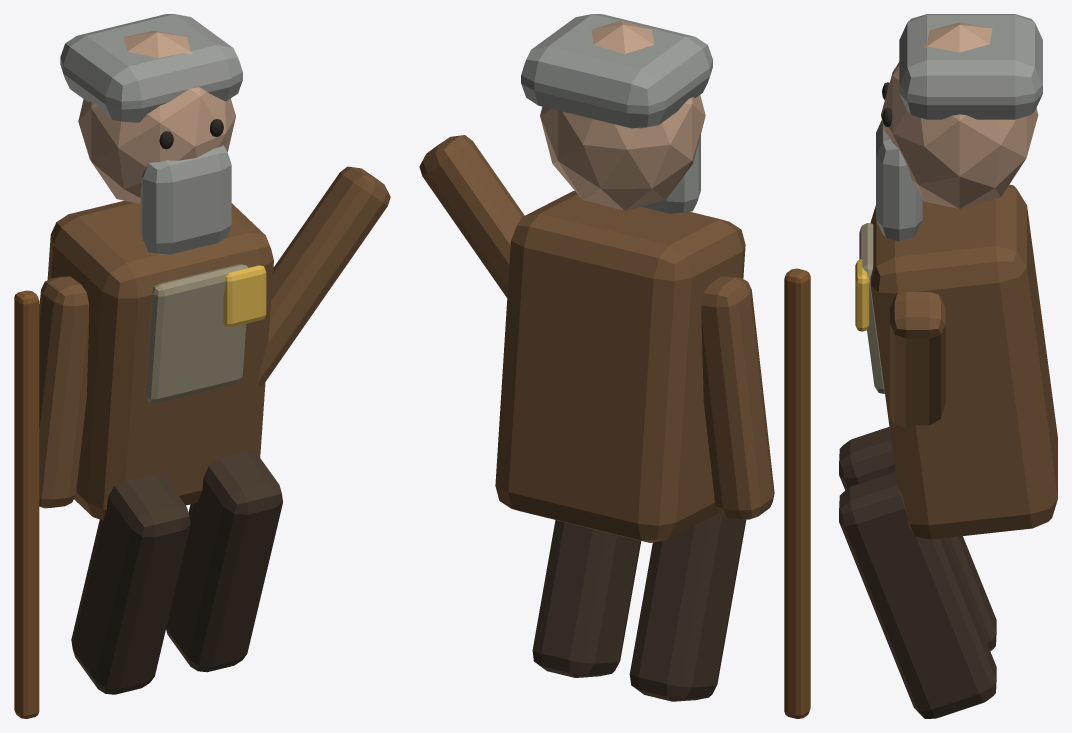
Rendered from old_man_3993.glb.
The picture shows the model from 3 angles, left to right: view 1: azimuth 30°, elevation 25°; view 2: azimuth 150°, elevation 25°; view 3: azimuth 270°, elevation 25°; orthographic projection. The views are drawn at different scales.
Parts seen in each view (by area): view 1: Slumped coat, Bent boot and leg, Bent boot and leg.001, Hair cap, Walking stick, Pointing arm, Head, Torn shirt, Drooping arm, Scraggly beard, Imperial badge; view 2: Slumped coat, Bent boot and leg, Hair cap, Drooping arm, Head, Bent boot and leg.001, Walking stick, Pointing arm, Scraggly beard; view 3: Slumped coat, Bent boot and leg.001, Hair cap, Head, Pointing arm, Bent boot and leg, Scraggly beard, Torn shirt, Imperial badge.
Part boxes in pixels (x1,y1,x2,y2): Slumped coat: [47, 200, 273, 520]; Bent boot and leg: [71, 474, 190, 694]; Bent boot and leg.001: [166, 452, 282, 672]; Hair cap: [60, 14, 242, 122]; Walking stick: [14, 290, 39, 718]; Pointing arm: [256, 166, 390, 386]; Head: [78, 30, 235, 203]; Torn shirt: [145, 264, 247, 403]; Drooping arm: [39, 276, 88, 508]; Scraggly beard: [140, 145, 231, 254]; Imperial badge: [222, 265, 266, 327]; Slumped coat: [495, 190, 745, 542]; Bent boot and leg: [629, 513, 746, 701]; Hair cap: [521, 14, 712, 128]; Drooping arm: [701, 276, 774, 519]; Head: [540, 20, 705, 210]; Bent boot and leg.001: [532, 520, 641, 677]; Walking stick: [784, 268, 810, 718]; Pointing arm: [419, 135, 524, 297]; Scraggly beard: [641, 134, 700, 213]; Slumped coat: [870, 184, 1057, 539]; Bent boot and leg.001: [839, 472, 996, 718]; Hair cap: [899, 14, 1042, 119]; Head: [881, 22, 1038, 208]; Pointing arm: [890, 292, 945, 427]; Bent boot and leg: [839, 427, 996, 650]; Scraggly beard: [876, 120, 922, 241]; Torn shirt: [859, 223, 884, 393]; Imperial badge: [855, 259, 869, 331].
Size of the model in its own units: 1.89 by 3.15 by 0.9436.
